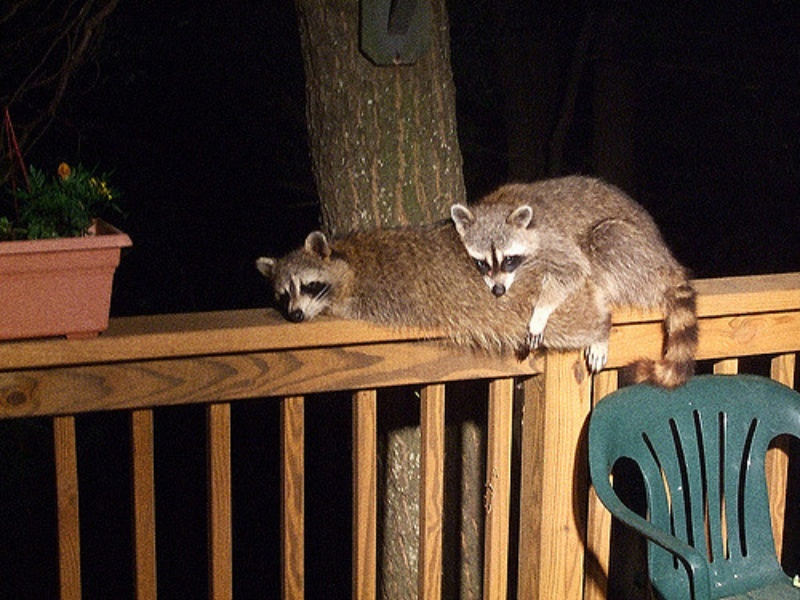raccoon: (447, 173, 709, 388), (247, 215, 616, 362)
